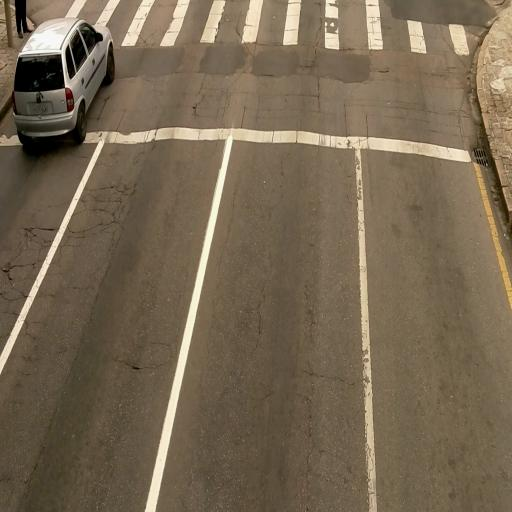car: (13, 16, 116, 144)
